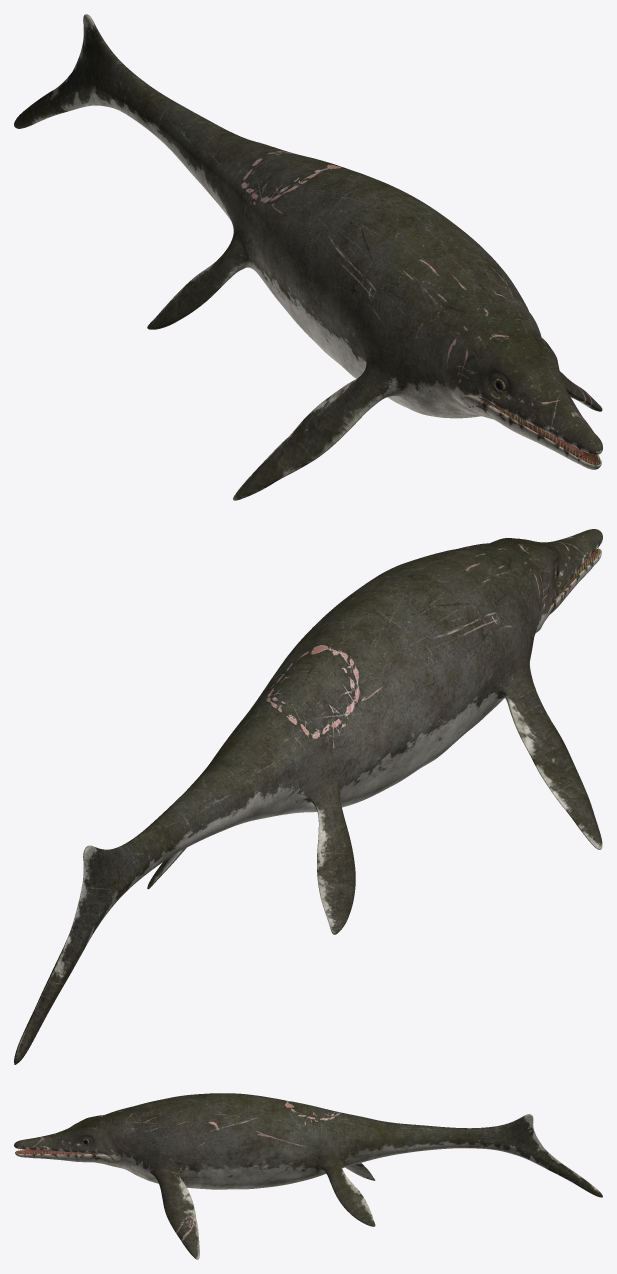
The model's file is ichthyosaurus.glb.
3 views of the same model, one above another, from view 1: azimuth 30°, elevation 25°; view 2: azimuth 150°, elevation 25°; view 3: azimuth 270°, elevation 25° (orthographic). The views are drawn at different scales.
Visible parts, largest first — view 1: RenMeshLowWrap1; view 2: RenMeshLowWrap1; view 3: RenMeshLowWrap1.
Boxes of the visible parts, x1,y1,x2,y2 form: RenMeshLowWrap1: [14, 14, 602, 500]; RenMeshLowWrap1: [14, 529, 602, 1064]; RenMeshLowWrap1: [14, 1093, 602, 1259].
Bounding box in the file's own units: 4.66 × 2.86 × 12.82.
4 materials, 4 textured.
